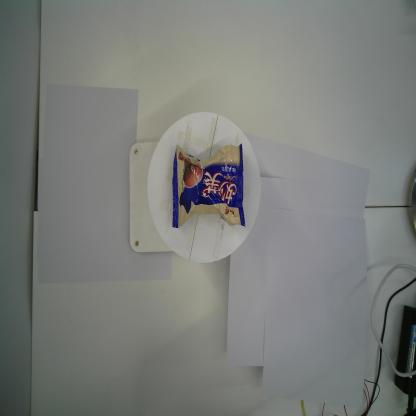Dessert: (170, 141, 247, 232)
